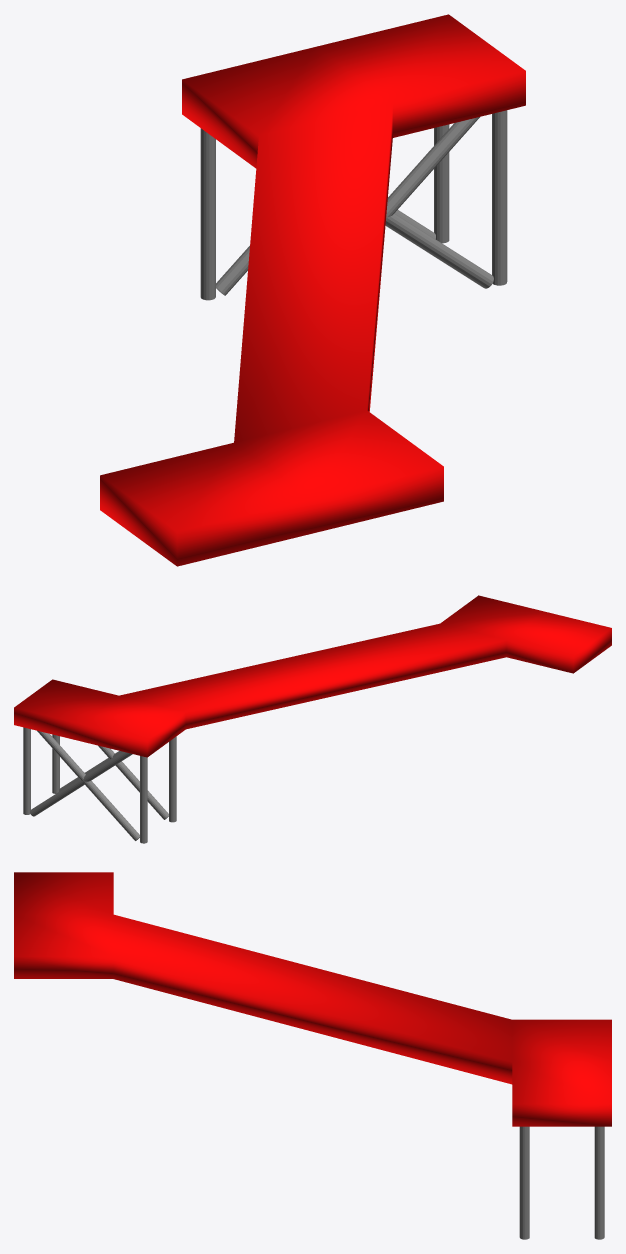
Rendered from ShiftRamp.fbx.
The picture shows the model from 3 angles, top to bottom: view 1: azimuth 30°, elevation 25°; view 2: azimuth 150°, elevation 25°; view 3: azimuth 270°, elevation 25°; orthographic projection. The views are drawn at different scales.
Parts seen in each view (by area): view 1: Cube, Cylinder.004, Cylinder.003, Cylinder.005, Cylinder.001, Cylinder; view 2: Cube, Cylinder.006, Cylinder.007, Cylinder.003, Cylinder, Cylinder.002, Cylinder.001, Cylinder.004; view 3: Cube, Cylinder, Cylinder.004.
Part boxes in pixels (<box>): Cube: <box>100,14,525,566</box>; Cylinder.004: <box>492,110,507,285</box>; Cylinder.003: <box>200,128,215,300</box>; Cylinder.005: <box>385,213,493,288</box>; Cylinder.001: <box>386,117,479,221</box>; Cylinder: <box>434,124,449,243</box>; Cube: <box>14,595,611,757</box>; Cylinder.006: <box>37,730,139,840</box>; Cylinder.007: <box>30,751,132,816</box>; Cylinder.003: <box>140,756,147,843</box>; Cylinder: <box>23,727,30,814</box>; Cylinder.002: <box>169,736,176,822</box>; Cylinder.001: <box>98,745,168,819</box>; Cylinder.004: <box>52,734,59,793</box>; Cube: <box>14,872,611,1126</box>; Cylinder: <box>594,1126,604,1239</box>; Cylinder.004: <box>519,1126,529,1239</box>.
Bounding box in the file's own units: 1100 × 310 × 1200.
Materials: 2 (1 with a texture image).
